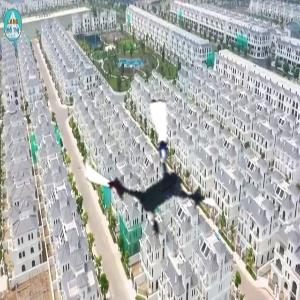drone: (77, 101, 223, 247)
